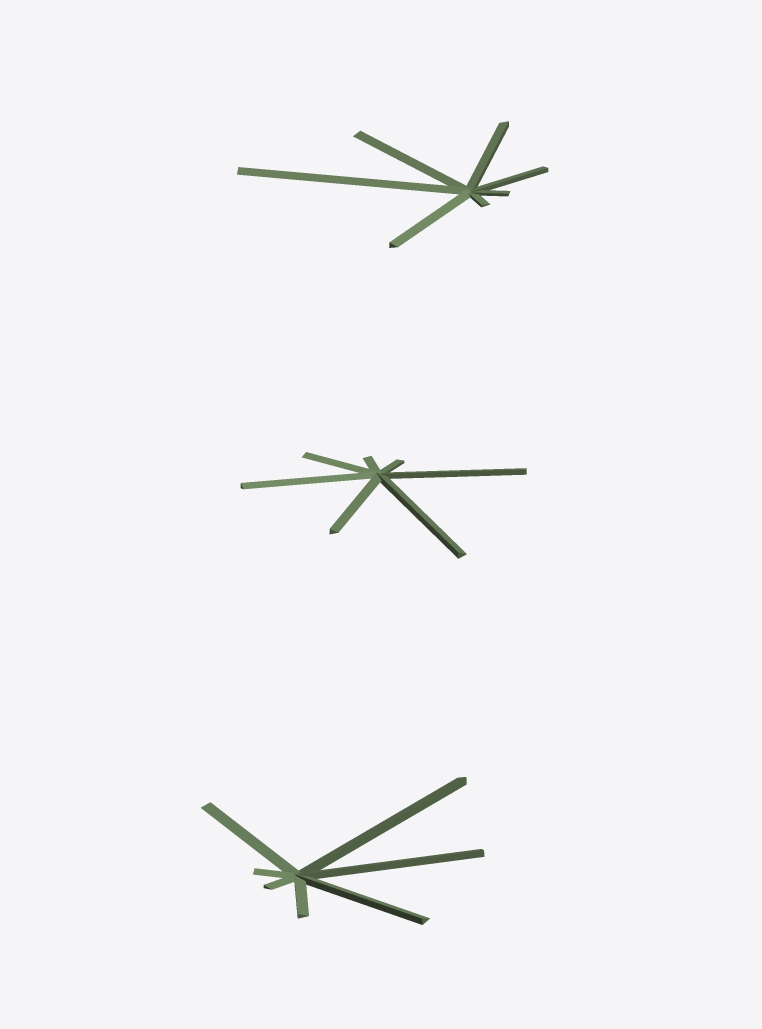
File: shui.pingpeng@fruiting__summer.glb
The picture shows the model from 3 angles, top to bottom: view 1: azimuth 30°, elevation 25°; view 2: azimuth 150°, elevation 25°; view 3: azimuth 270°, elevation 25°; orthographic projection. The views are drawn at different scales.
Parts seen in each view (by area): view 1: shui.pingpeng@fruiting__summer; view 2: shui.pingpeng@fruiting__summer; view 3: shui.pingpeng@fruiting__summer.
Part boxes in pixels (left/top/right/bottom): shui.pingpeng@fruiting__summer: left=237, top=121, right=548, bottom=247; shui.pingpeng@fruiting__summer: left=240, top=452, right=526, bottom=558; shui.pingpeng@fruiting__summer: left=201, top=777, right=484, bottom=924.
Size of the model in its own units: 1.28 by 0.0296 by 1.15.
